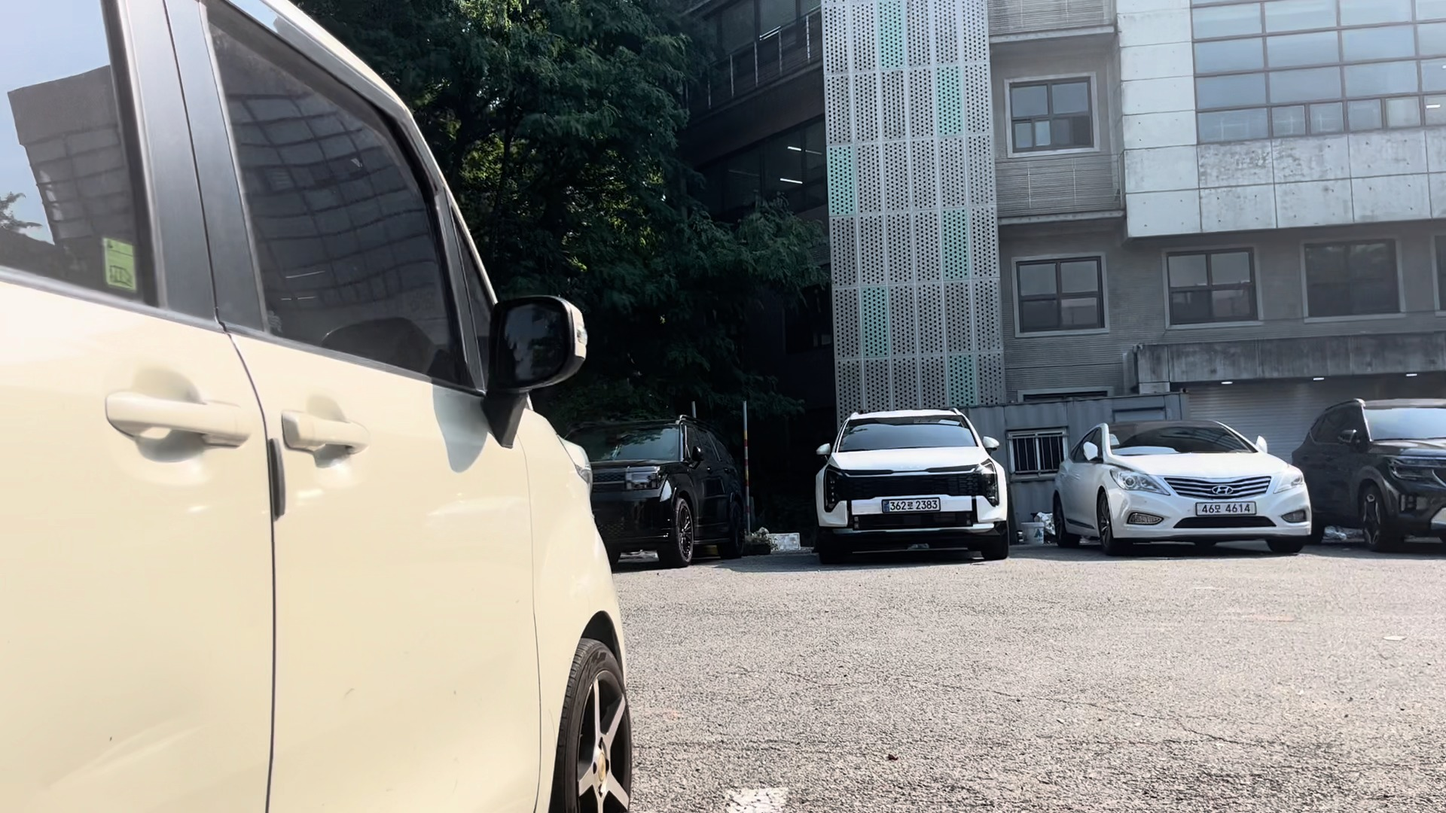license_plate: (881, 498, 944, 512), (1194, 501, 1256, 515)
side_mirror: (487, 295, 585, 393)
